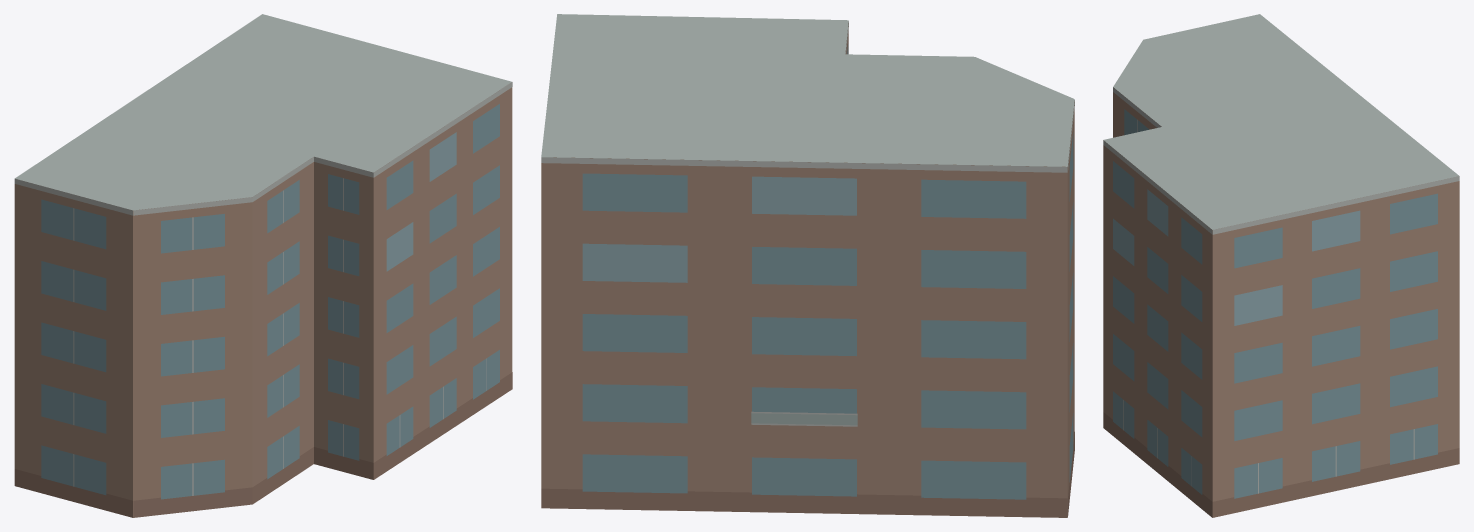
File: survey-upis-32863813.glb
3 renders of one model, left to right at view 1: azimuth 30°, elevation 25°; view 2: azimuth 150°, elevation 25°; view 3: azimuth 270°, elevation 25°, orthographic. The views are drawn at different scales.
Parts seen in each view (by area): view 1: survey-upis-32863813.tmp; view 2: survey-upis-32863813.tmp; view 3: survey-upis-32863813.tmp.
Boxes of the visible parts, x1,y1,x2,y2 form: survey-upis-32863813.tmp: [14, 14, 512, 517]; survey-upis-32863813.tmp: [541, 14, 1074, 517]; survey-upis-32863813.tmp: [1103, 14, 1459, 517].
Bounding box in the file's own units: 23.17 × 14.4 × 16.16.
